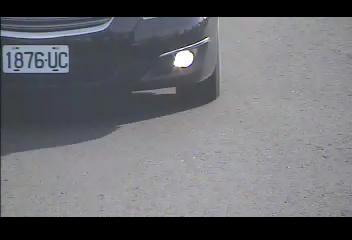plate: (1, 43, 70, 76)
